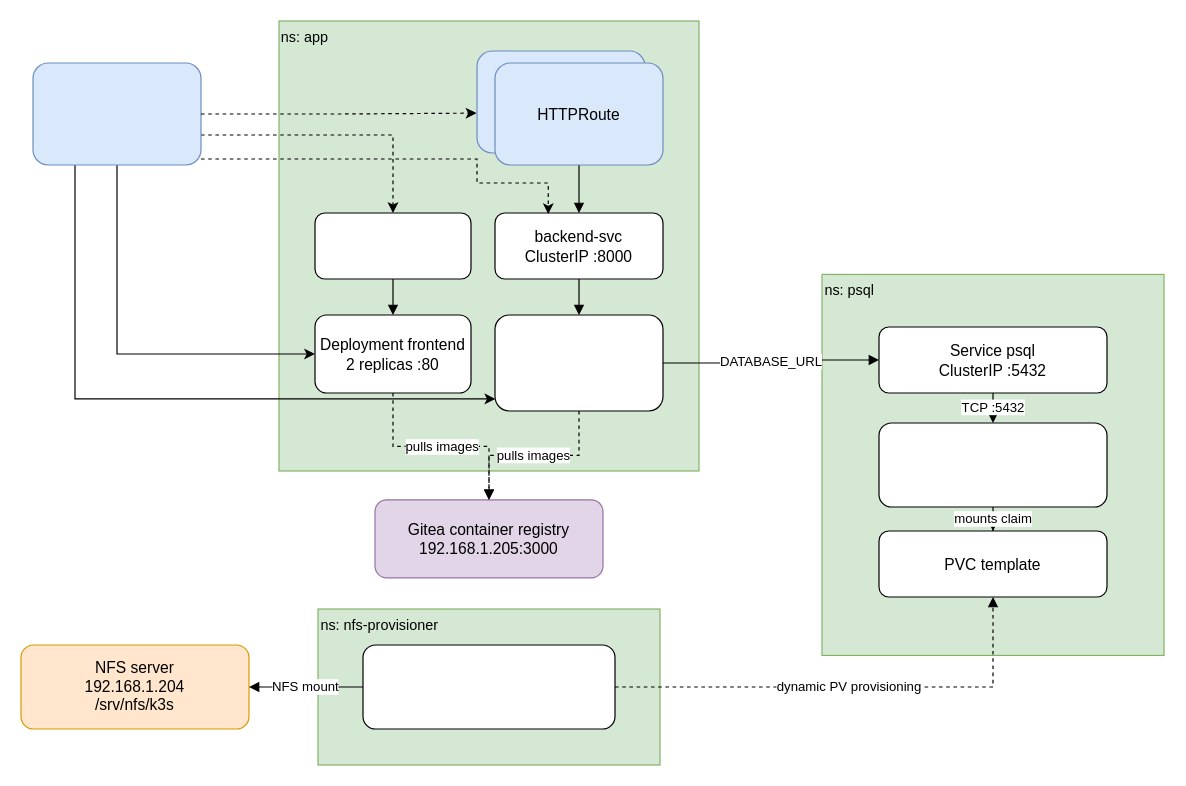
Image size: 1186x786. Some labels were removed from this diagram. Each missing label, with the centre of its shape:
Deployment backend 1 replica :8000: the point at 578,362
Envoy Proxy: the point at 116,113
frontend-svc ClusterIP :80: the point at 392,245
NFS subdir external provisioner StorageClass: nfs-client: the point at 488,686
StatefulSet psql PostgreSQL 16 1 replica: the point at 992,464
